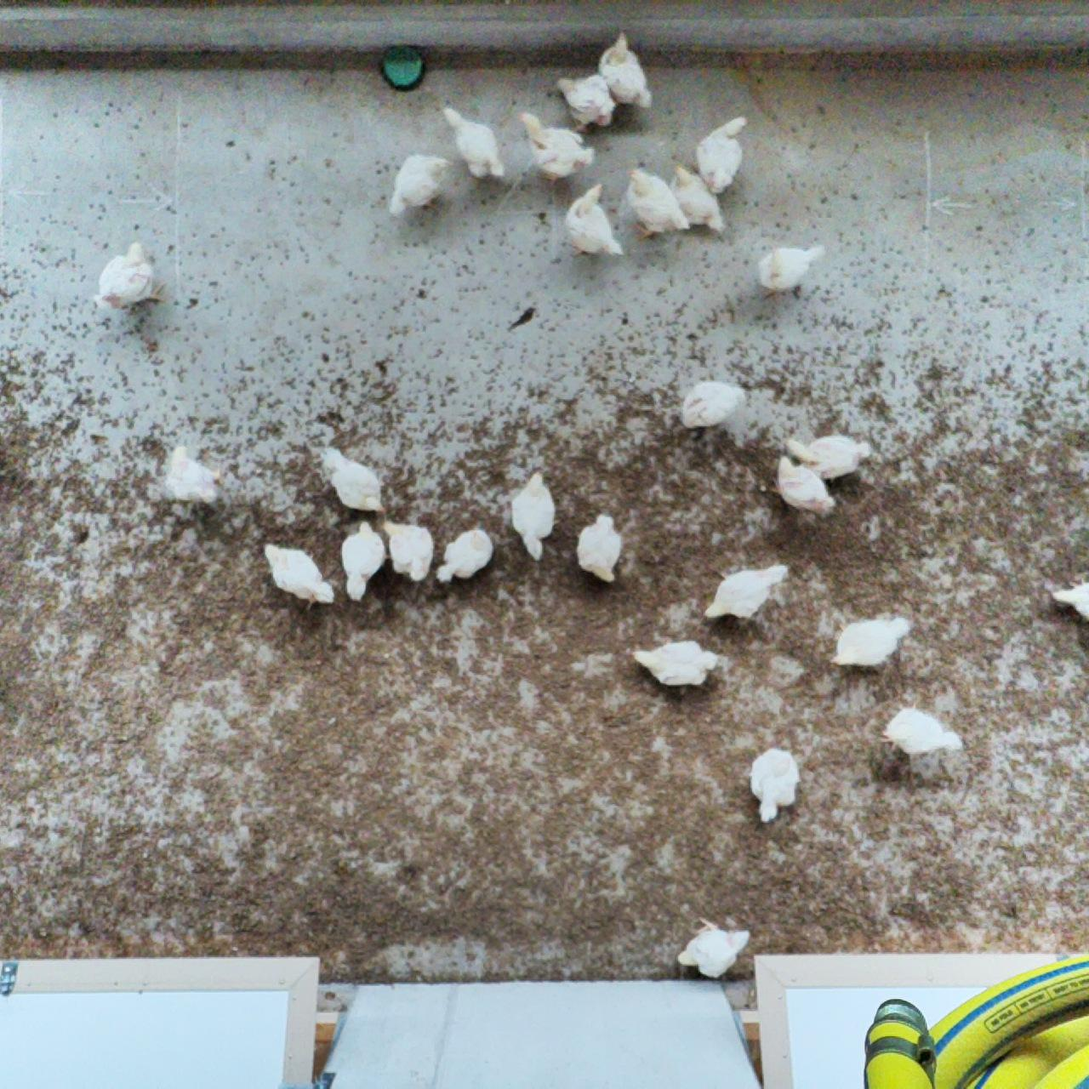chicken: (511, 105, 593, 180), (704, 561, 793, 630), (437, 97, 506, 180), (93, 235, 163, 314), (311, 443, 390, 513), (829, 612, 914, 674), (625, 638, 722, 692), (260, 537, 339, 603), (506, 466, 560, 561), (674, 919, 756, 980), (594, 28, 654, 111), (626, 163, 691, 239), (562, 180, 621, 262), (877, 704, 963, 759), (153, 443, 224, 509), (786, 430, 874, 483), (745, 745, 803, 825), (551, 68, 619, 136), (332, 519, 387, 601), (386, 153, 455, 213), (700, 114, 751, 195), (670, 163, 729, 232), (677, 375, 748, 431), (575, 506, 624, 585), (435, 524, 496, 587), (774, 456, 835, 517), (377, 517, 433, 583), (756, 241, 823, 290), (1046, 573, 1089, 627)
